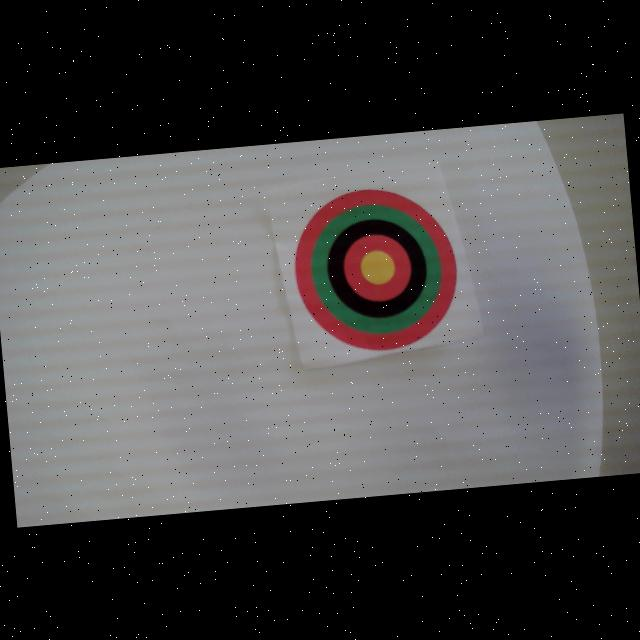COGNITIVE: (289, 182, 463, 358)
